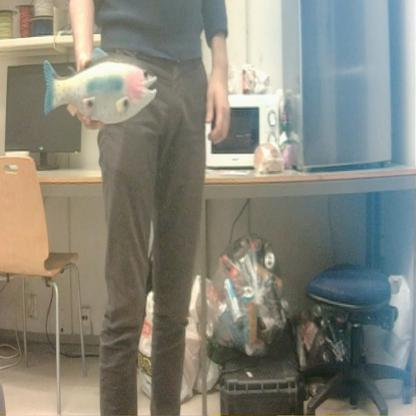rubberfish: (40, 43, 159, 131)
